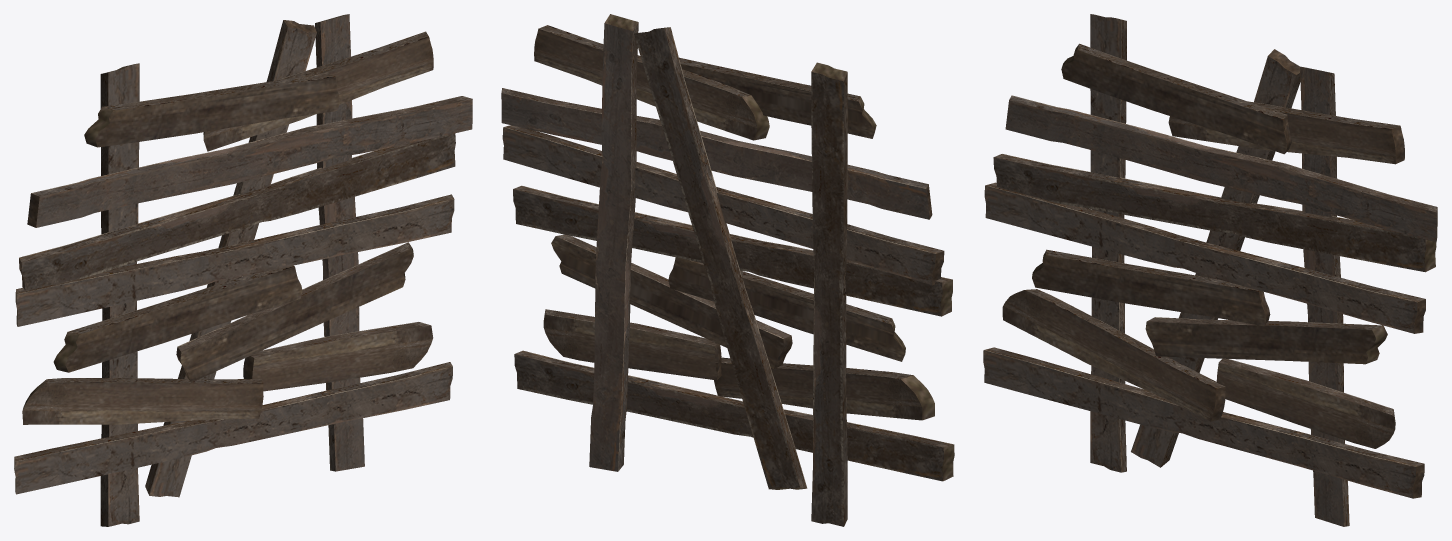
Rendered from SM_BoardedWindow02.fbx.
The picture shows the model from 3 angles, left to right: view 1: azimuth 30°, elevation 25°; view 2: azimuth 150°, elevation 25°; view 3: azimuth 330°, elevation 25°; orthographic projection.
Parts seen in each view (by area): view 1: SM_BoardedWindow02.mo; view 2: SM_BoardedWindow02.mo; view 3: SM_BoardedWindow02.mo.
Part boxes in pixels (left/top/right/bottom): SM_BoardedWindow02.mo: left=14, top=14, right=472, bottom=526; SM_BoardedWindow02.mo: left=501, top=14, right=954, bottom=526; SM_BoardedWindow02.mo: left=983, top=14, right=1437, bottom=526.
Bounding box in the file's own units: 289 × 279 × 24.05.
